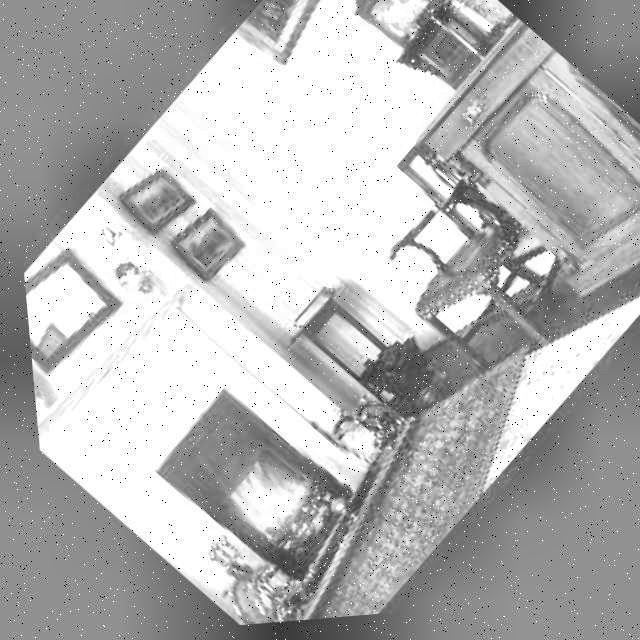Fire: (200, 441, 326, 566)
